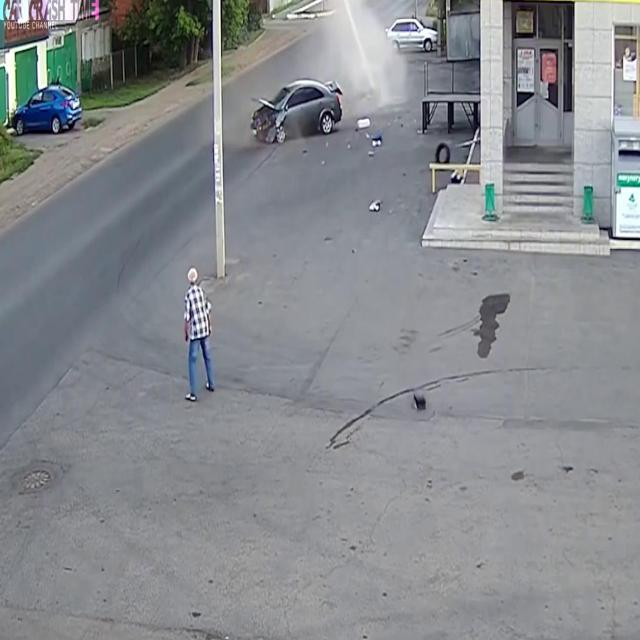accident: (244, 73, 390, 221)
